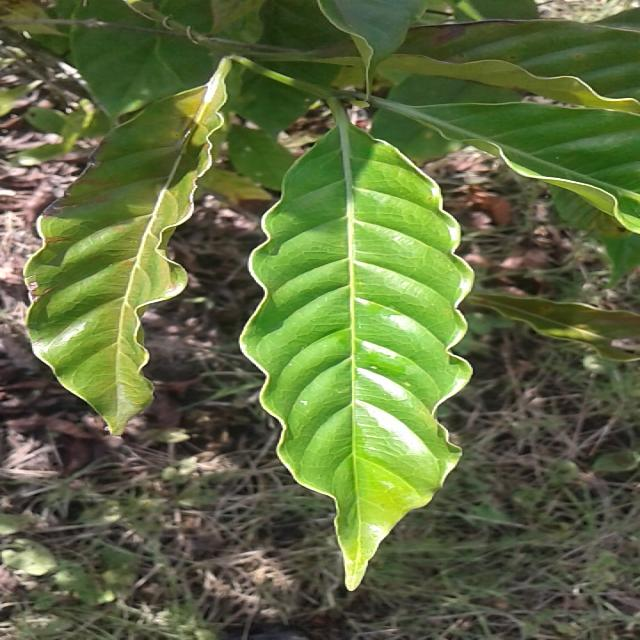Sanas: (237, 110, 476, 596)
